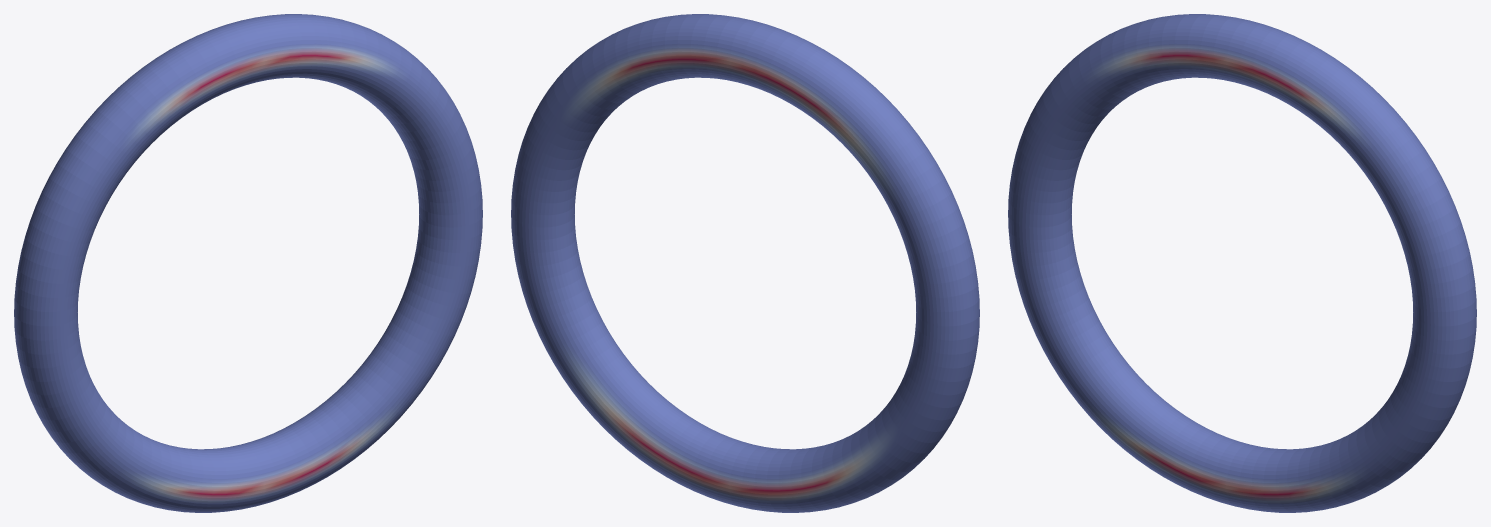
3 renders of one model, left to right at view 1: azimuth 30°, elevation 25°; view 2: azimuth 150°, elevation 25°; view 3: azimuth 330°, elevation 25°, orthographic.
Visible parts, largest first — view 1: world; view 2: world; view 3: world.
Boxes of the visible parts, x1,y1,x2,y2 form: world: [14, 14, 482, 512]; world: [511, 14, 979, 512]; world: [1008, 14, 1476, 512].
Bounding box in the file's own units: 16.67 × 16.67 × 2.
